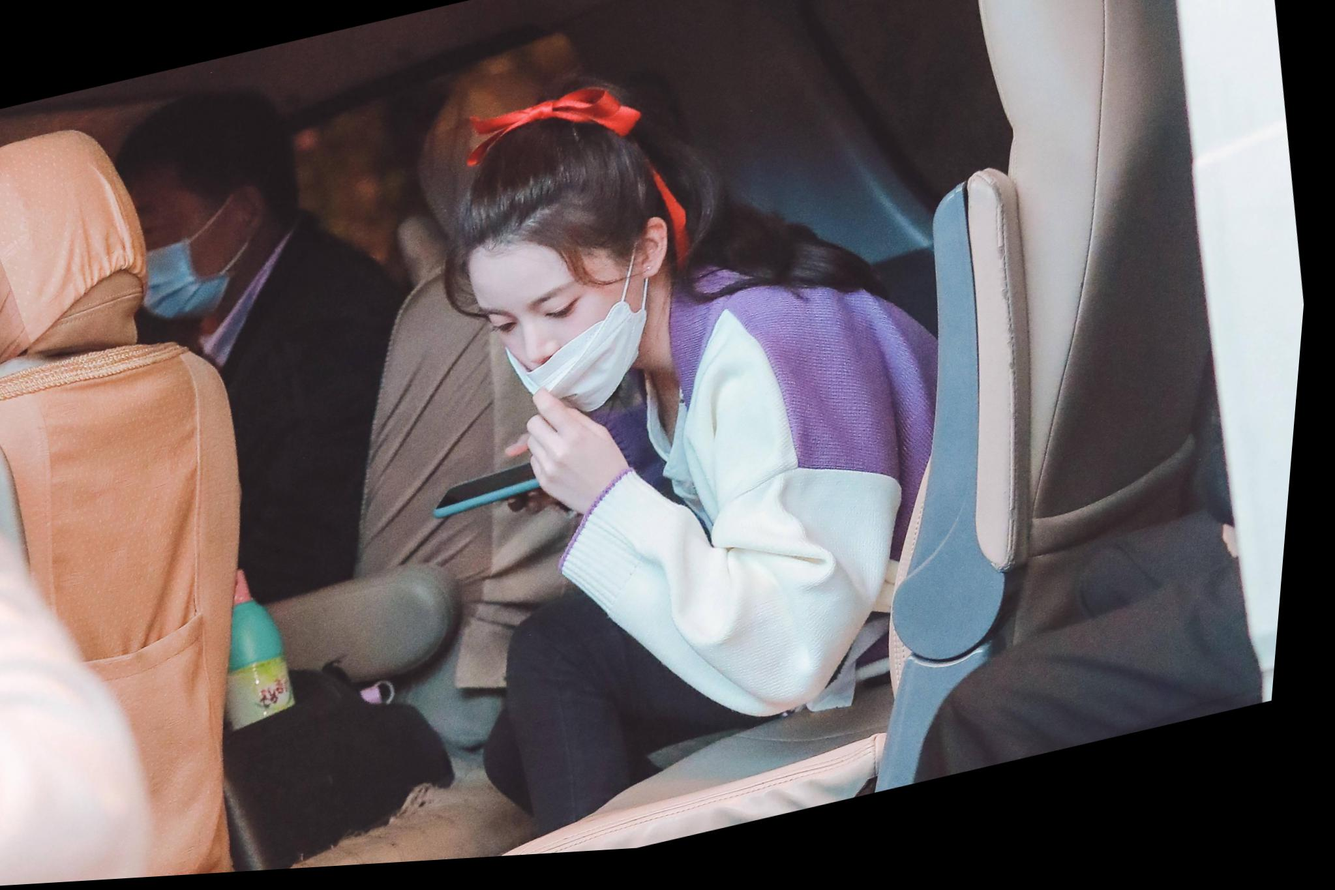OK: (110, 166, 256, 333)
WRONG: (475, 255, 661, 449)
